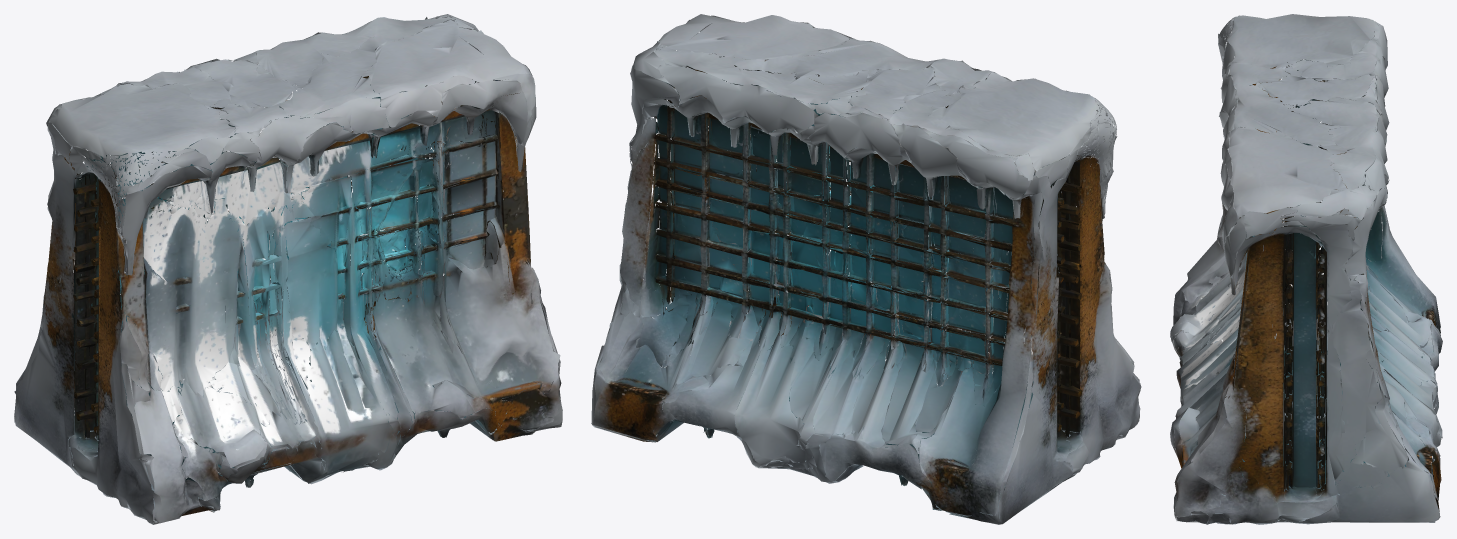
Rendered from barrier_ice_melting.glb.
3 views of the same model, side by side, from view 1: azimuth 30°, elevation 25°; view 2: azimuth 150°, elevation 25°; view 3: azimuth 270°, elevation 25° (orthographic). The views are drawn at different scales.
Visible parts, largest first — view 1: node_0; view 2: node_0; view 3: node_0.
Boxes of the visible parts, x1=… form: node_0: x1=14, y1=14, x2=562, y2=524; node_0: x1=591, y1=14, x2=1141, y2=524; node_0: x1=1170, y1=14, x2=1442, y2=524.
Size of the model in its own units: 0.8876 by 0.7111 by 0.5251.
Materials: 1 (1 with a texture image).
